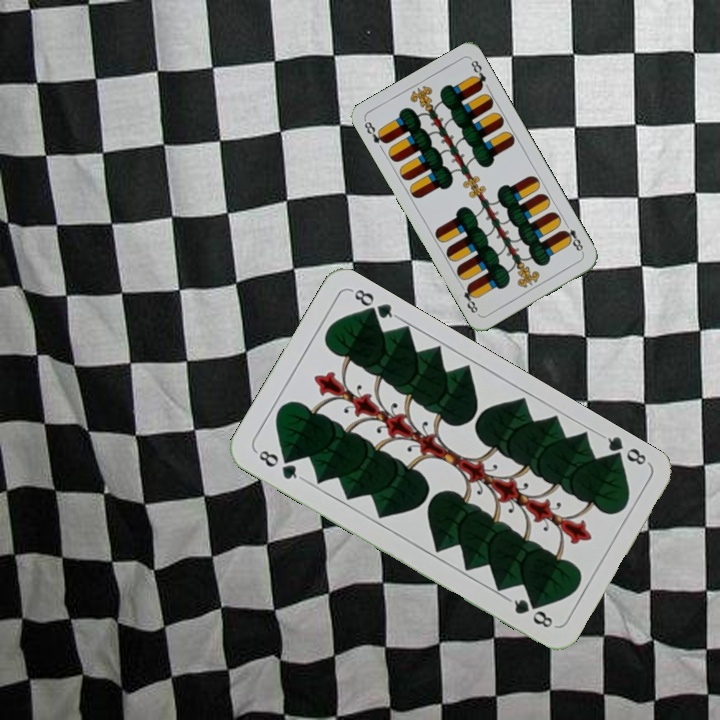E8: (558, 219, 586, 256), (360, 117, 390, 147)
G8: (598, 430, 651, 468), (252, 446, 305, 483)
